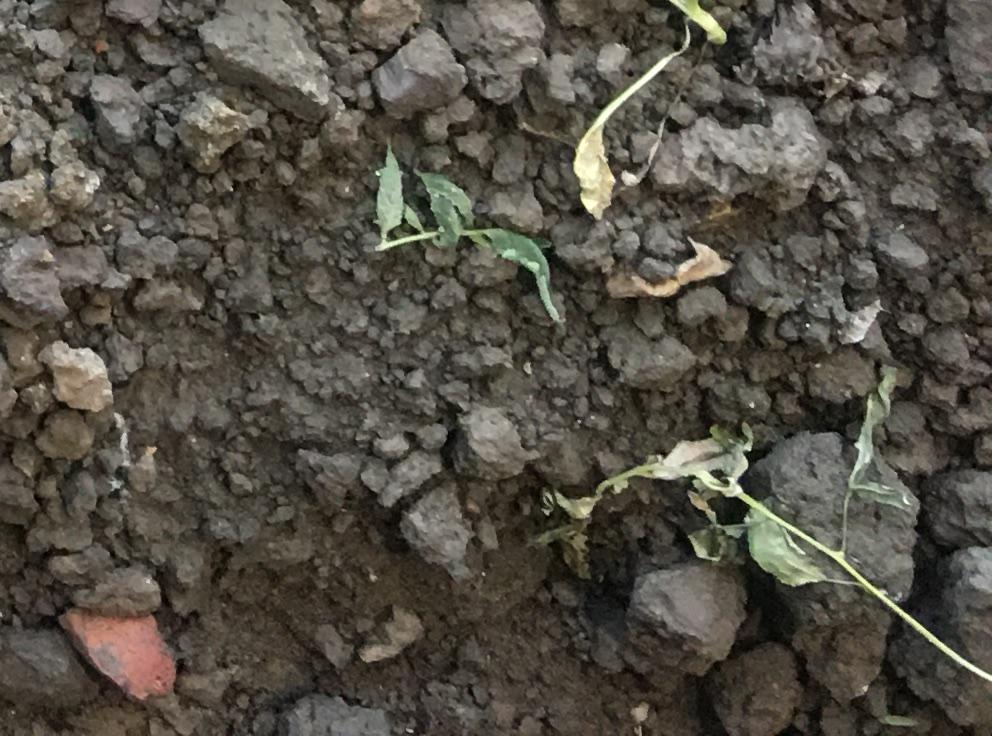block: (748, 434, 917, 702), (194, 1, 335, 132), (622, 559, 750, 683)
